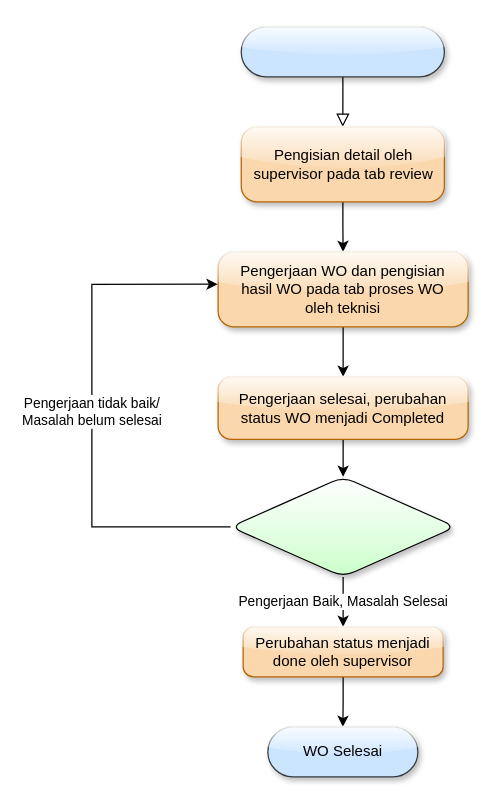
Some shapes in this 498 by 808 pixel diagram are drawn without their labels. Each missing label, with the centre of its shape:
Pembuatan WO: (343,53)
Review pengerjaan oleh supervisor: (343,528)
